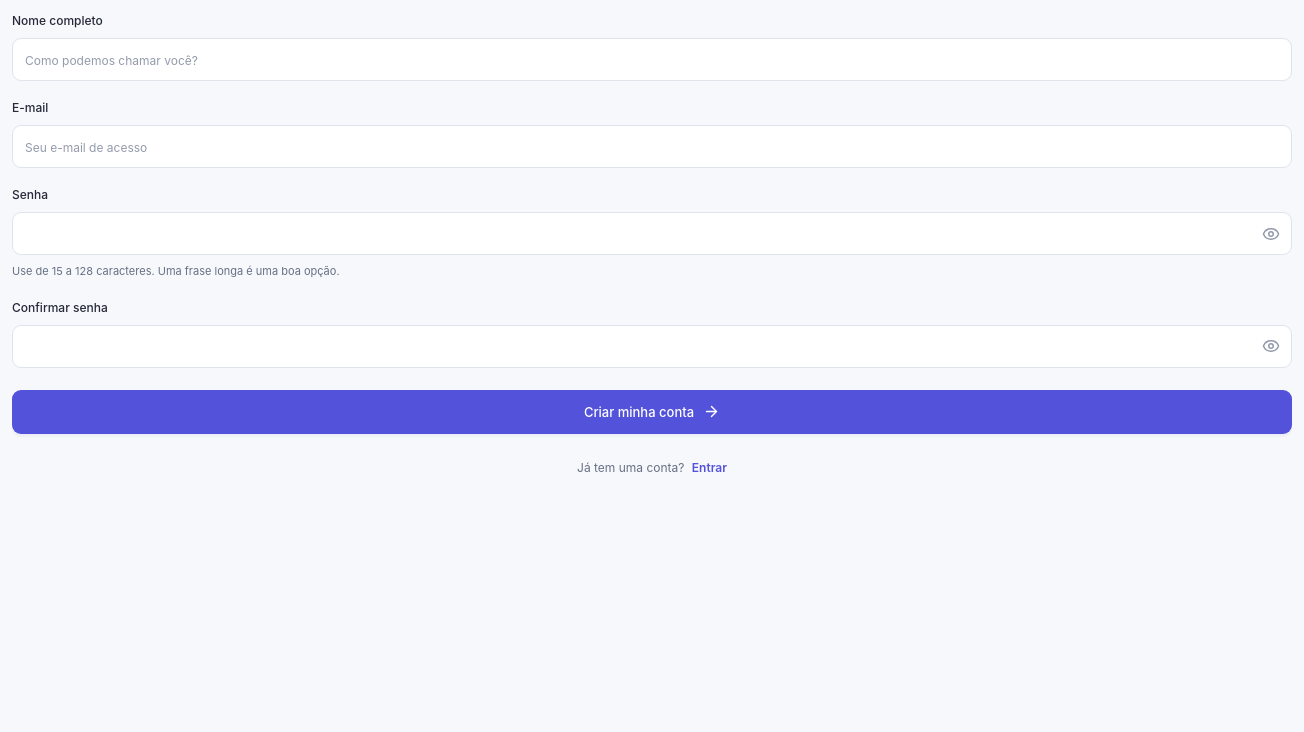
Scenario: Formulários e sessão › renderiza cadastro e exige campos e confirmação
This screenshot has width=1304, height=732.
Click the button "Criar minha conta" at point(652, 412), box [12, 390, 1292, 434]
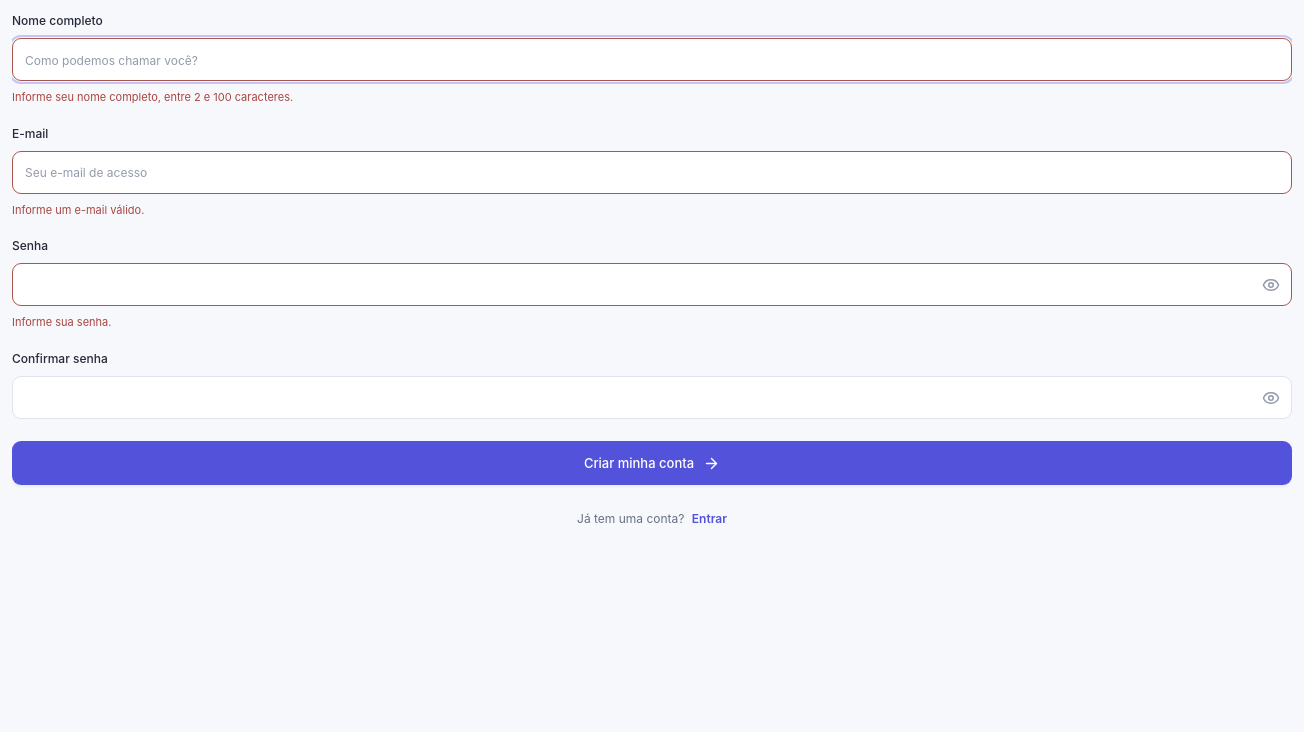
Now the text "Informe seu nome completo, entre 2 e 100 caracteres." is shown, box [12, 90, 293, 104]
Now the text "Informe um e-mail válido." is shown, box [12, 203, 144, 217]
Type "Synthetic Professional" into the field labelled "Nome completo" at point(652, 60), box [12, 38, 1292, 81]
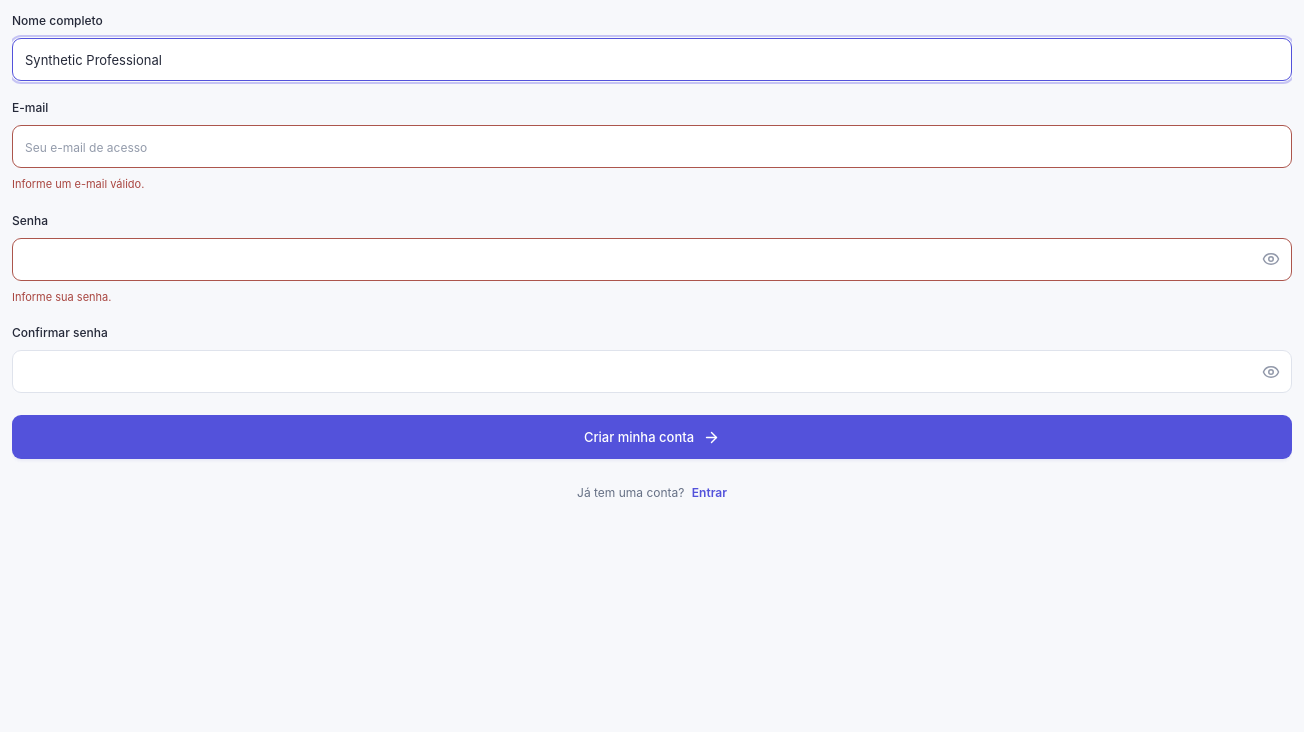
Type "synthetic@example.test" into the field labelled "E-mail" at point(652, 146), box [12, 125, 1292, 168]
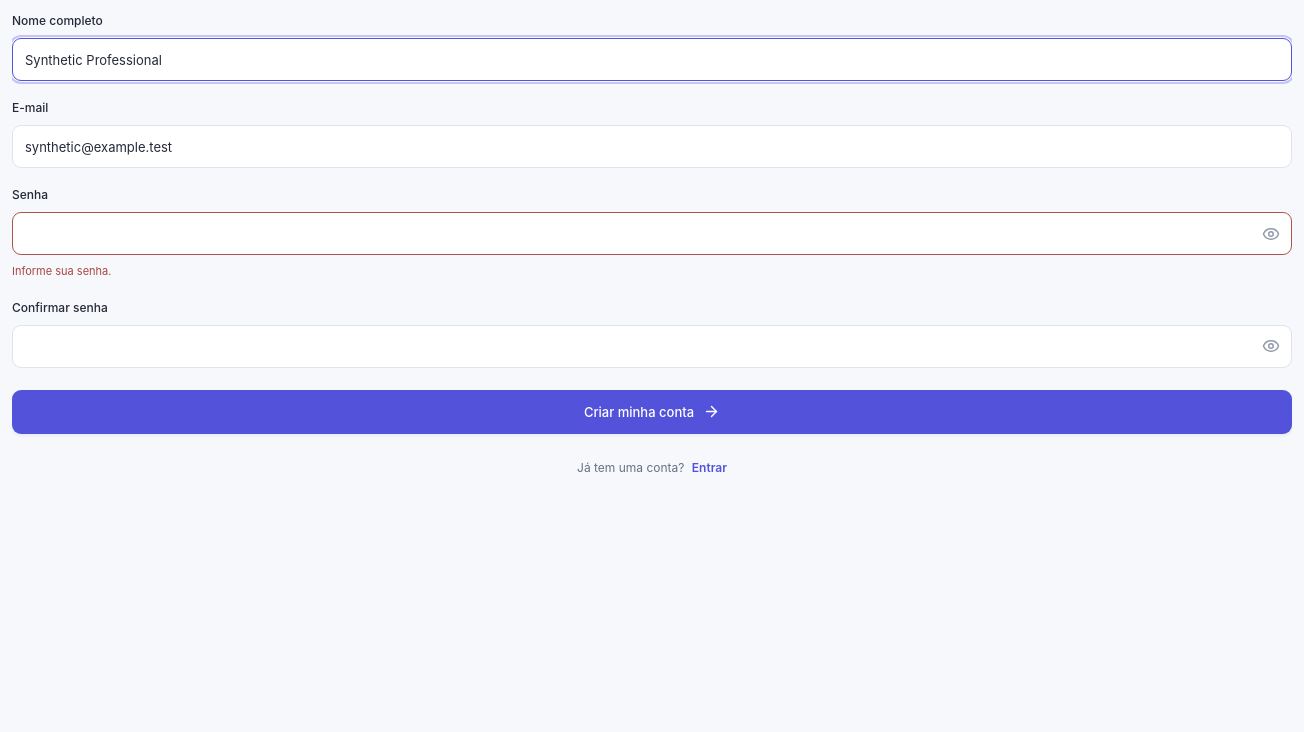
Type "synthetic password for tests" into the password field labelled "Senha" at point(652, 234), box [12, 212, 1292, 255]
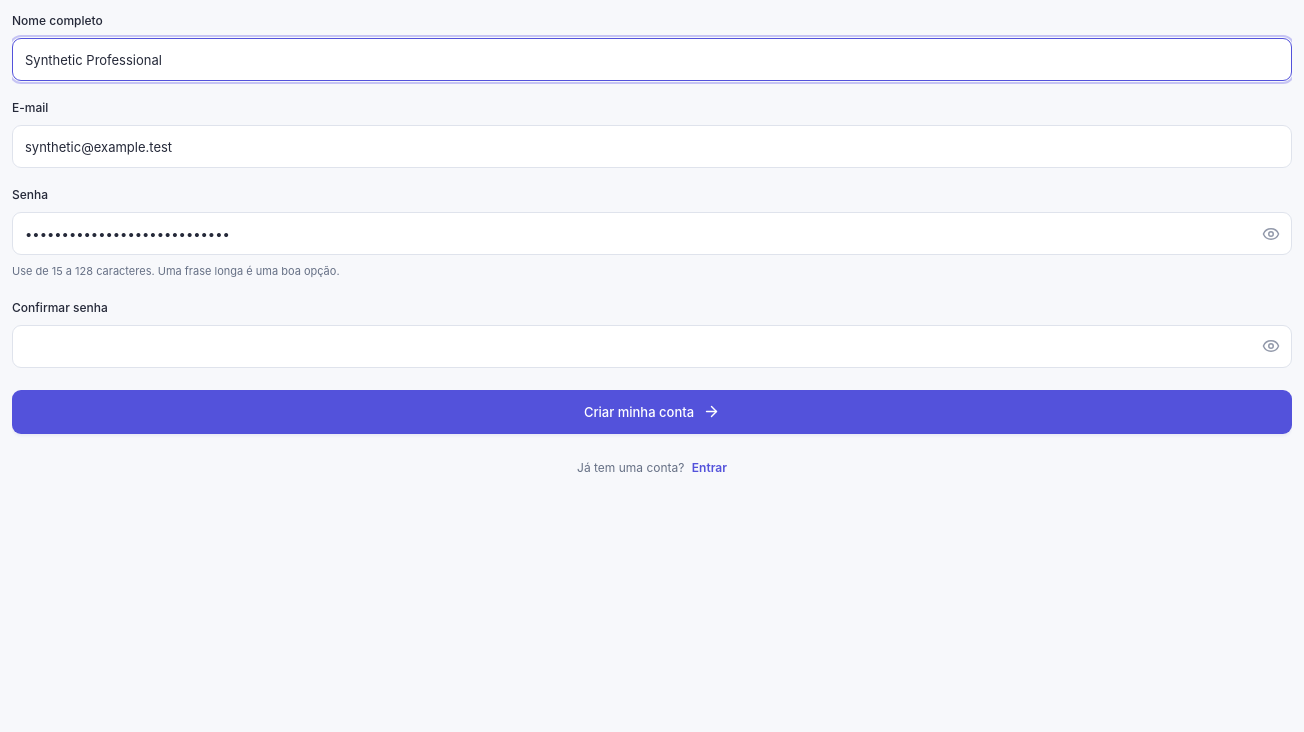
Type "different password" into the password field labelled "Confirmar senha" at point(652, 346), box [12, 325, 1292, 368]
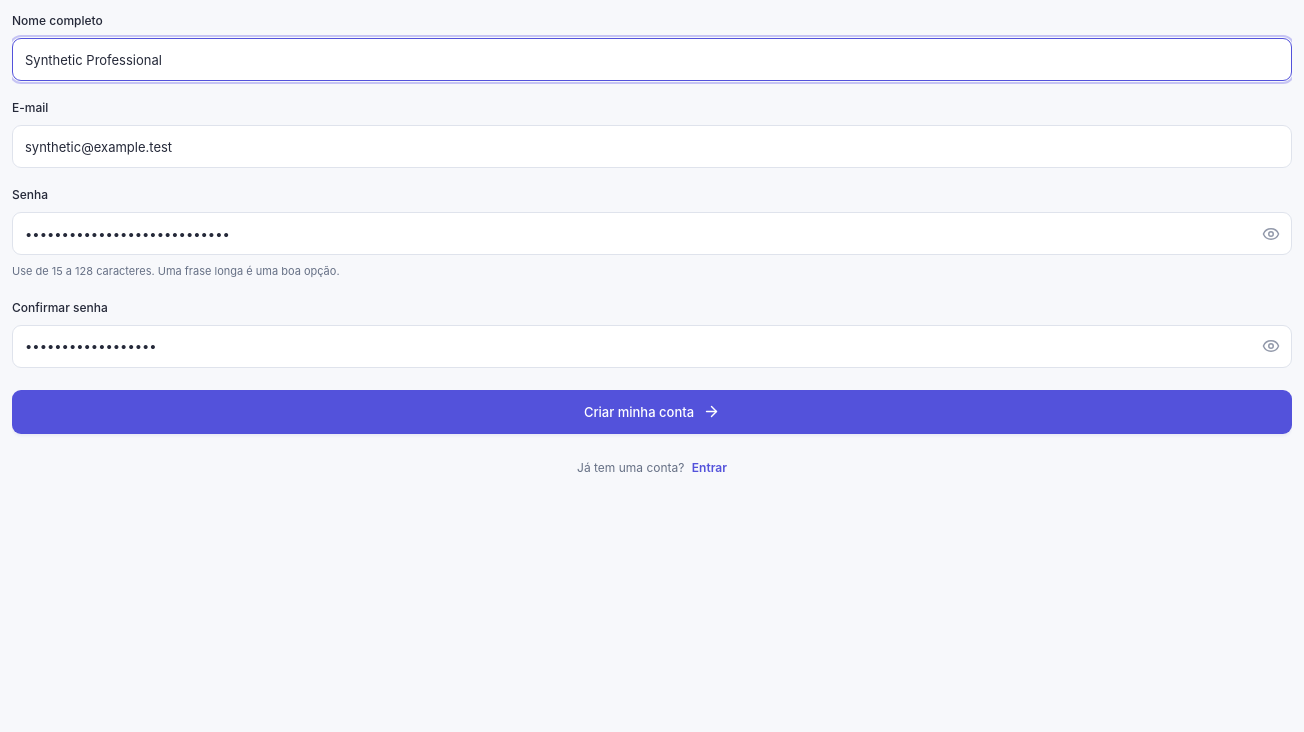
Click the button "Criar minha conta" at point(652, 412), box [12, 390, 1292, 434]
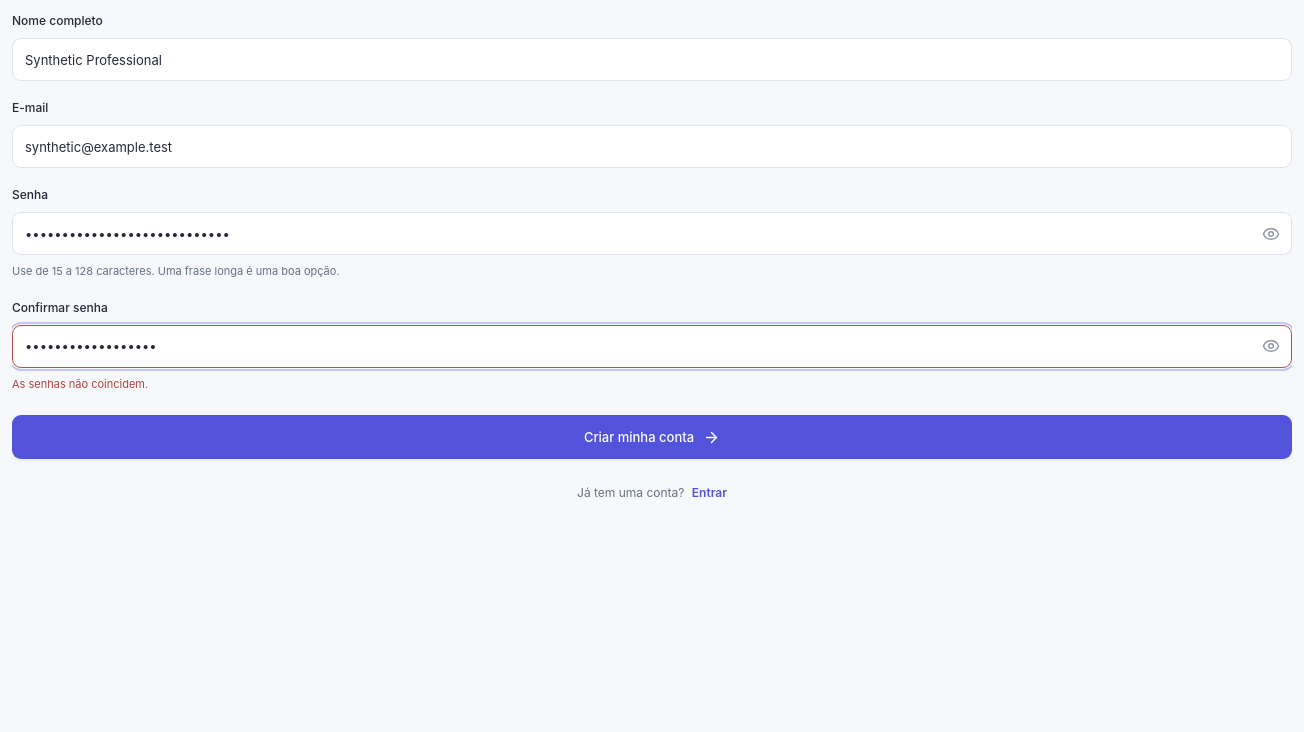
Now the text "As senhas não coincidem." is shown, box [12, 377, 148, 391]
